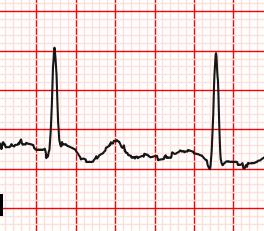Pathological Q Wave: (191, 147, 215, 171)
